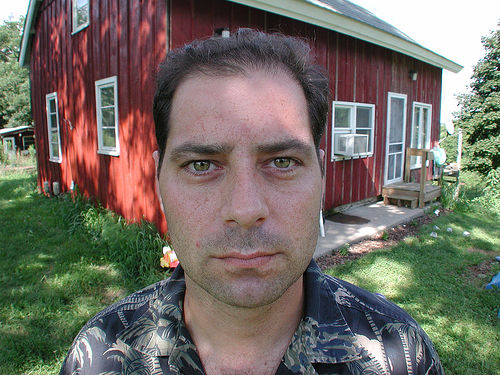without_mask: (150, 69, 330, 307)
